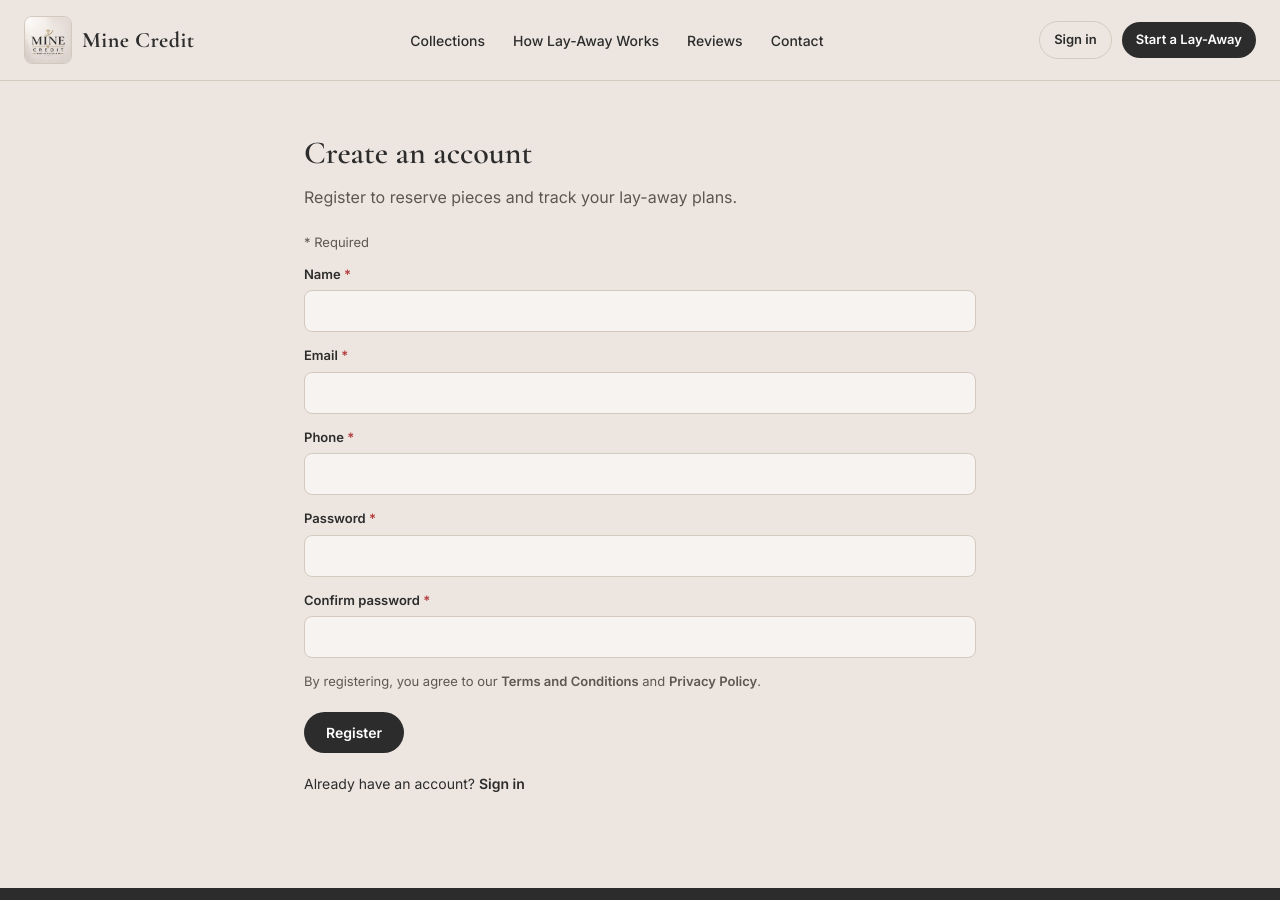
it: Register › creates an account from the form
Type "Pat Patron" into the field labelled "Name" at (640, 311), box [304,290,976,332]
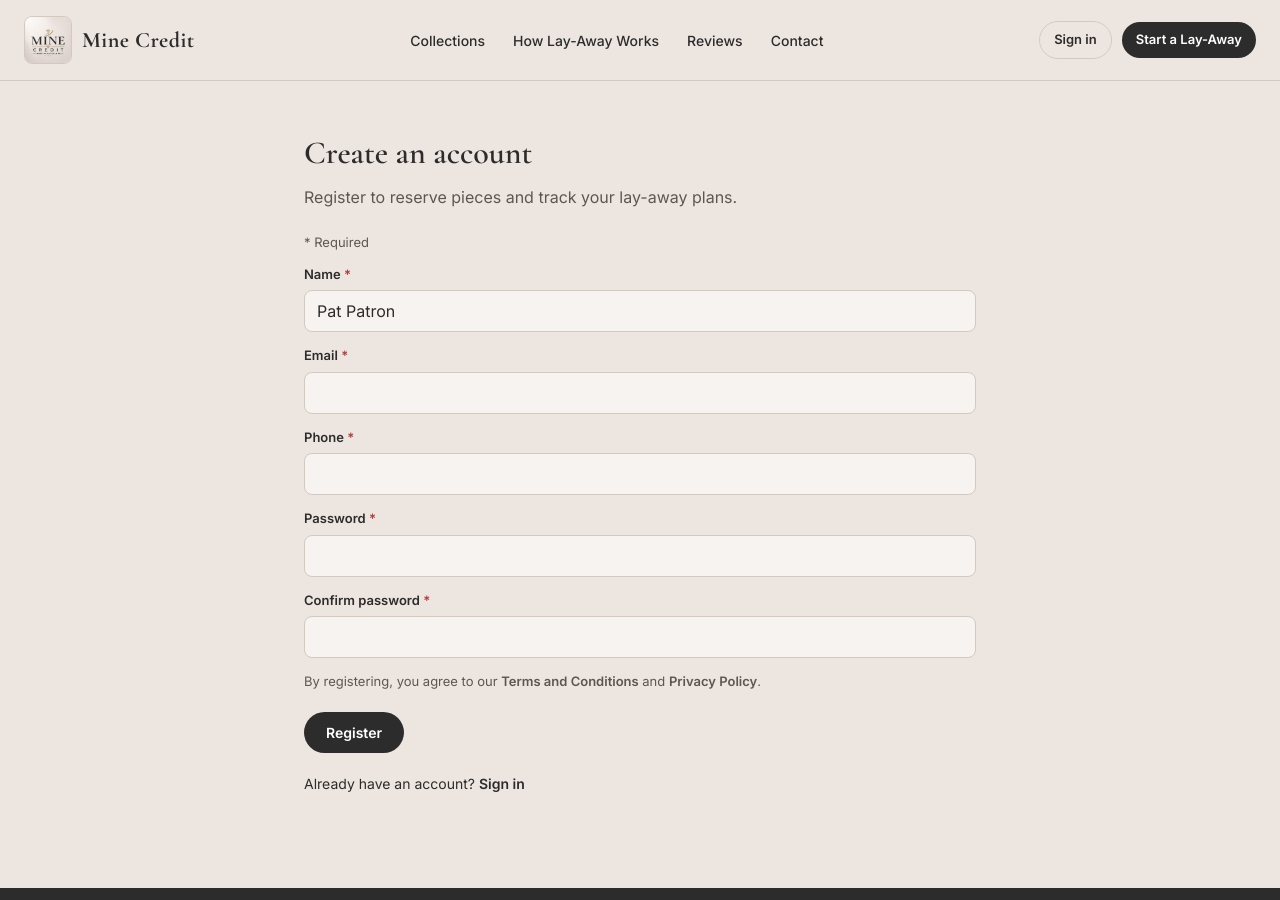
Type "pat@sampleemail.com" into the field labelled "Email" at (640, 392), box [304,372,976,414]
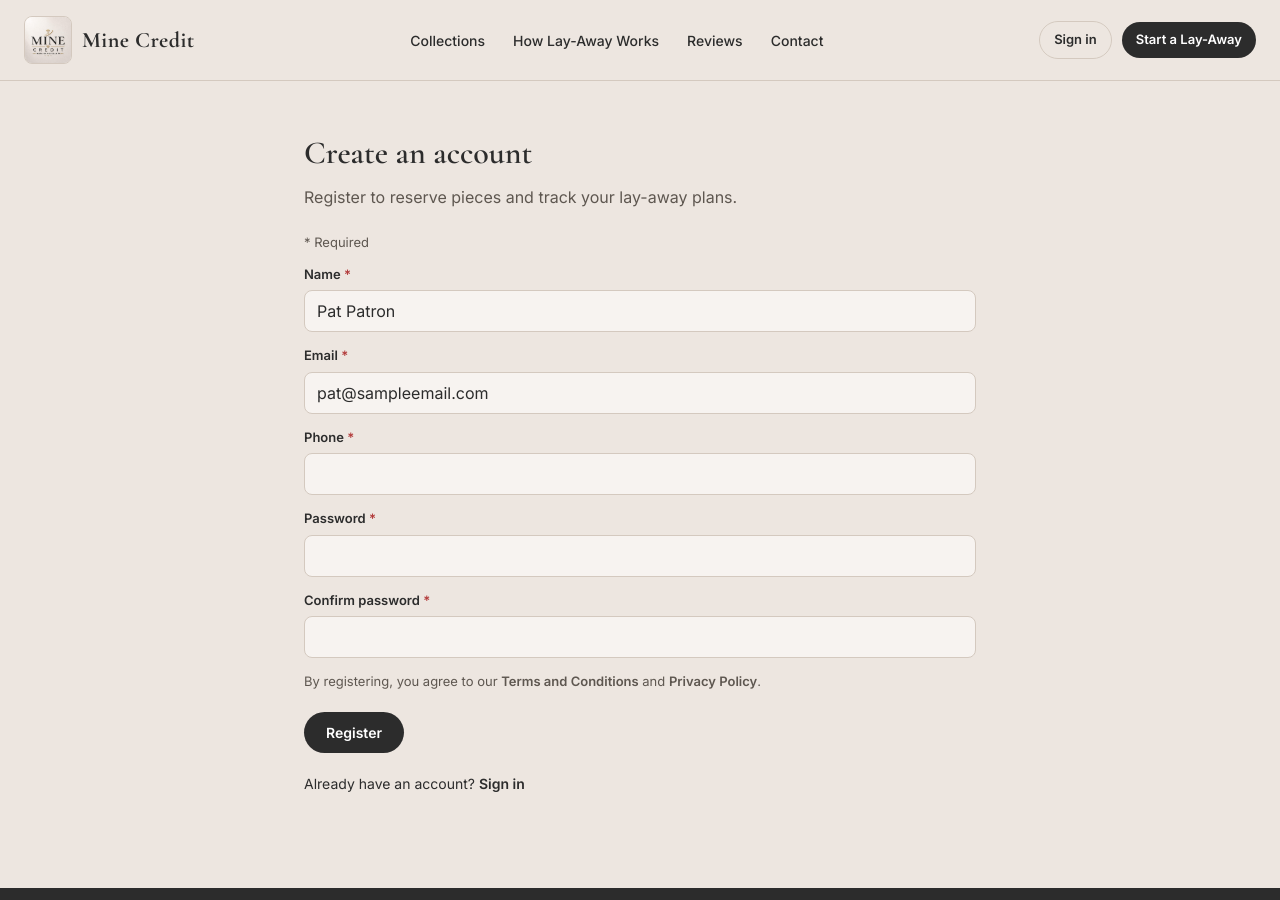
Type "555-0100" into the field labelled "Phone" at (640, 474), box [304,453,976,495]
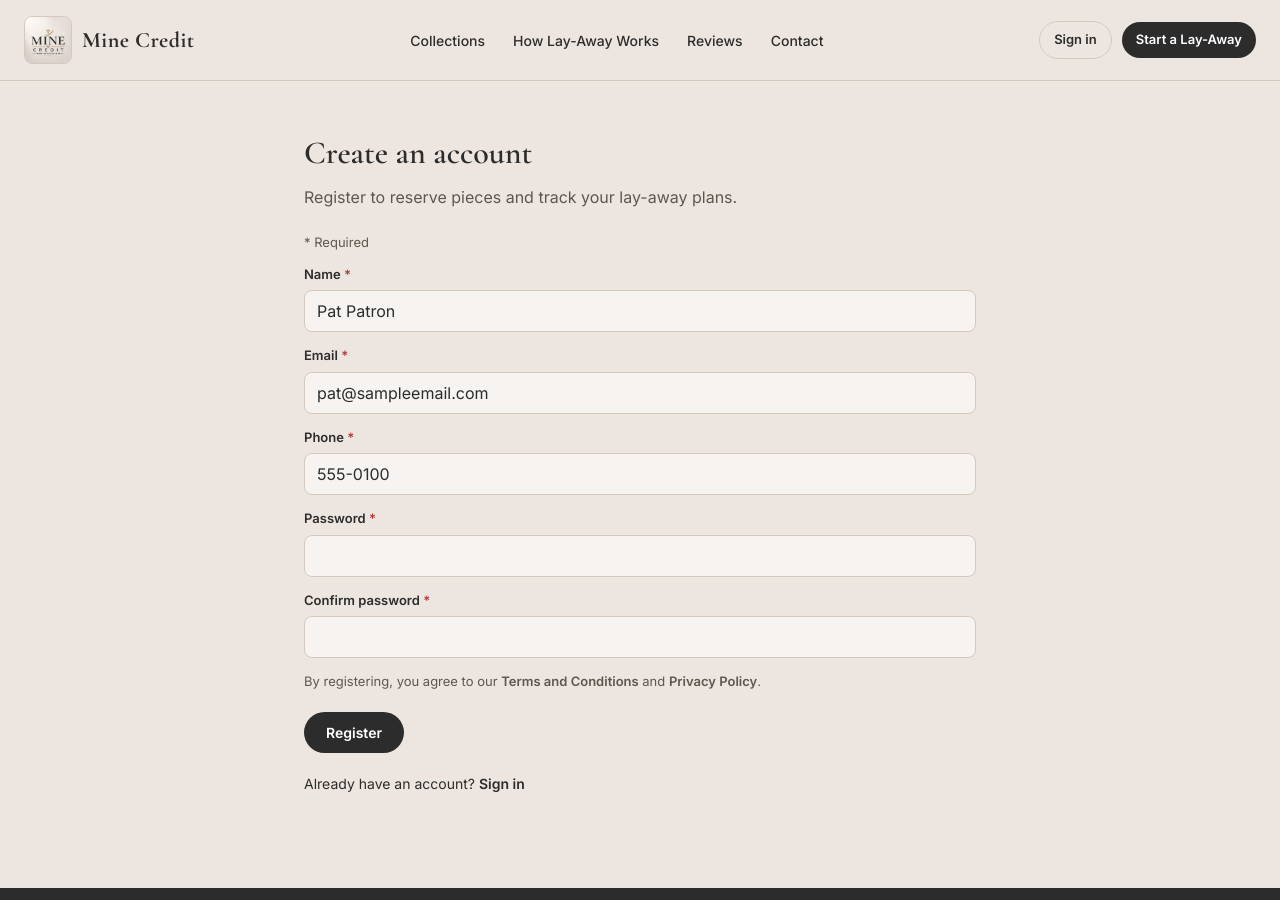
Type "password" into the password field labelled "Password" at (640, 556), box [304,534,976,576]
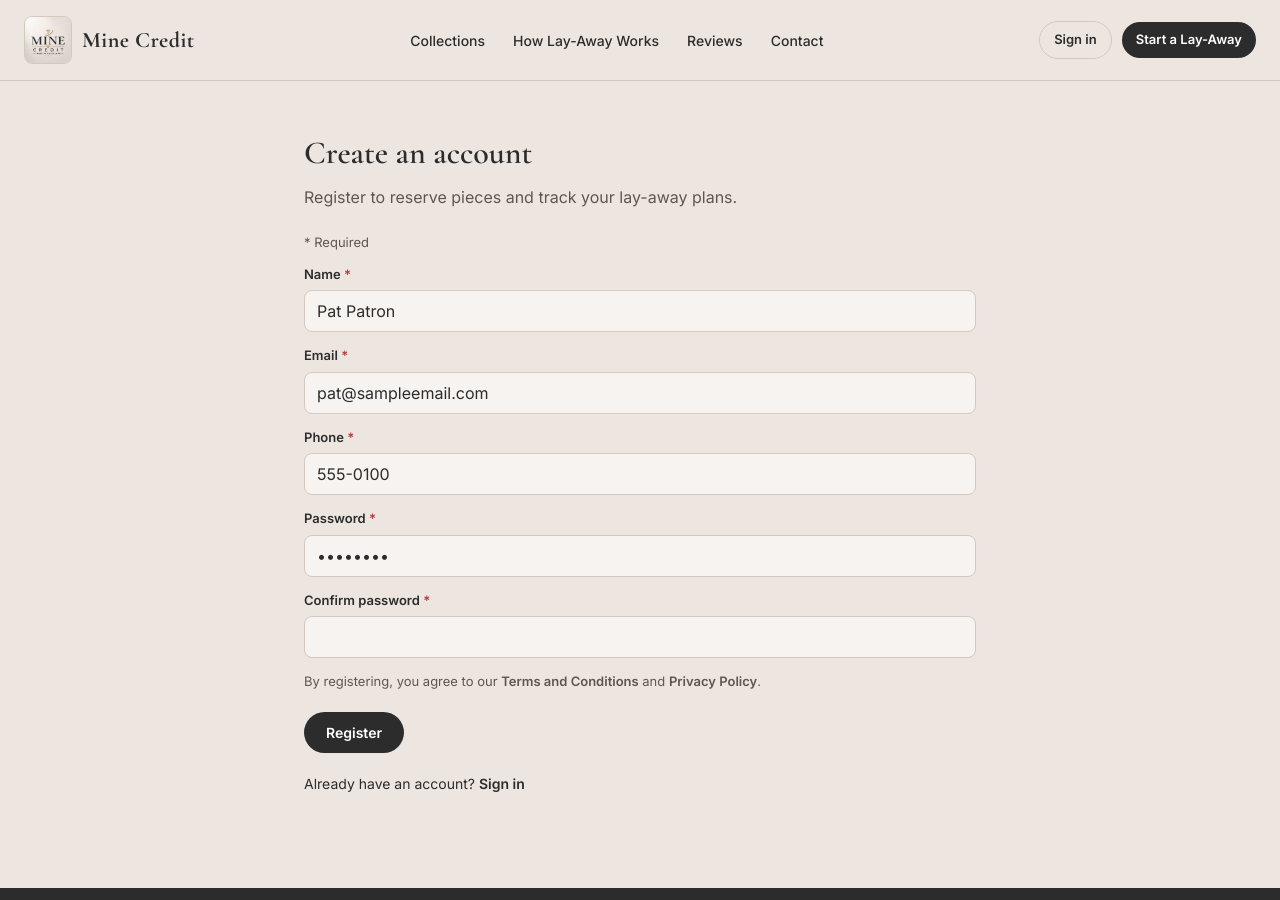
Type "password" into the password field labelled "Confirm password" at (640, 637), box [304,616,976,658]
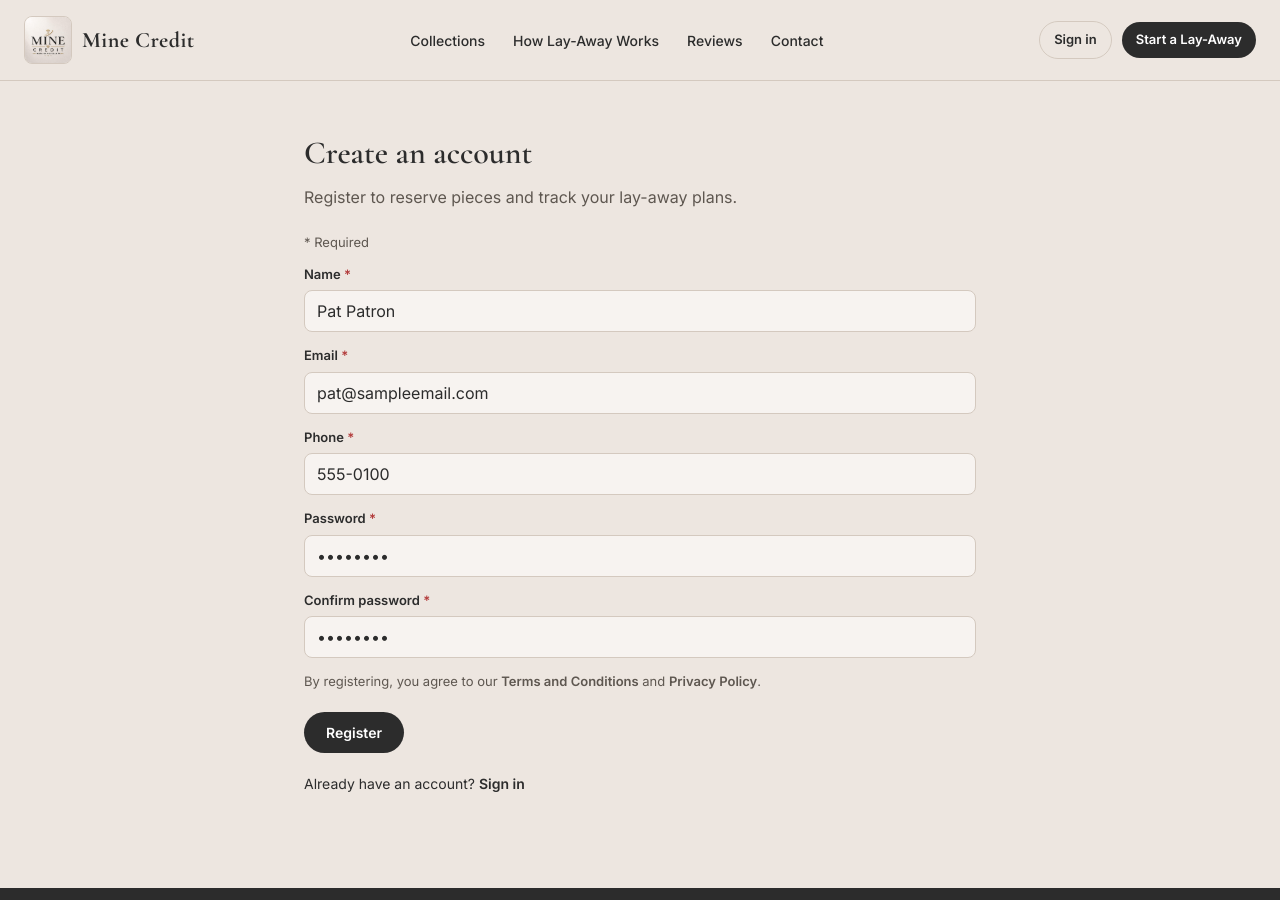
Click the button "Register" at (354, 732), box [304,712,404,752]
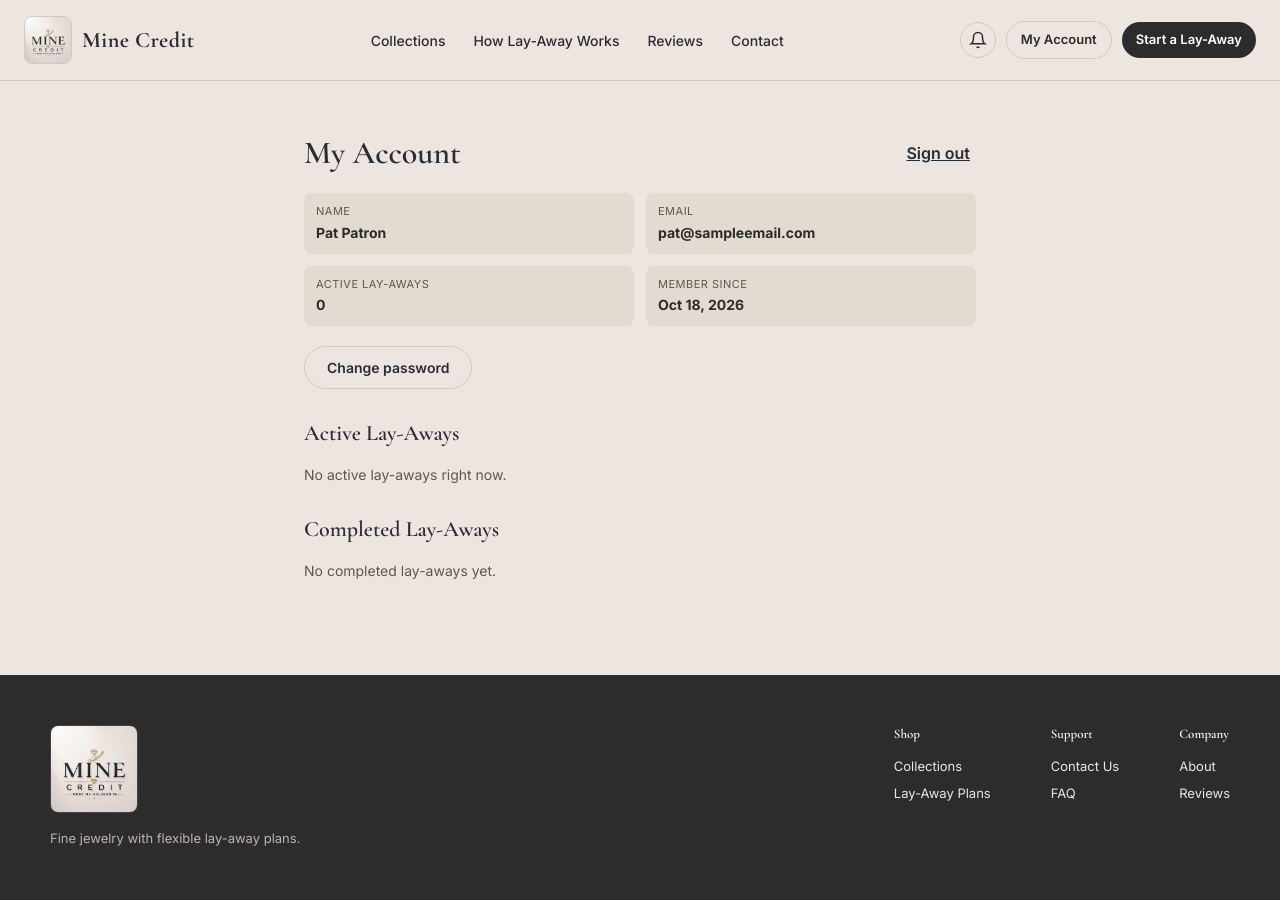
Check: the heading "My Account" is shown, box [304,129,461,177]
Check: the text "Pat Patron" is shown, box [316,224,386,240]
